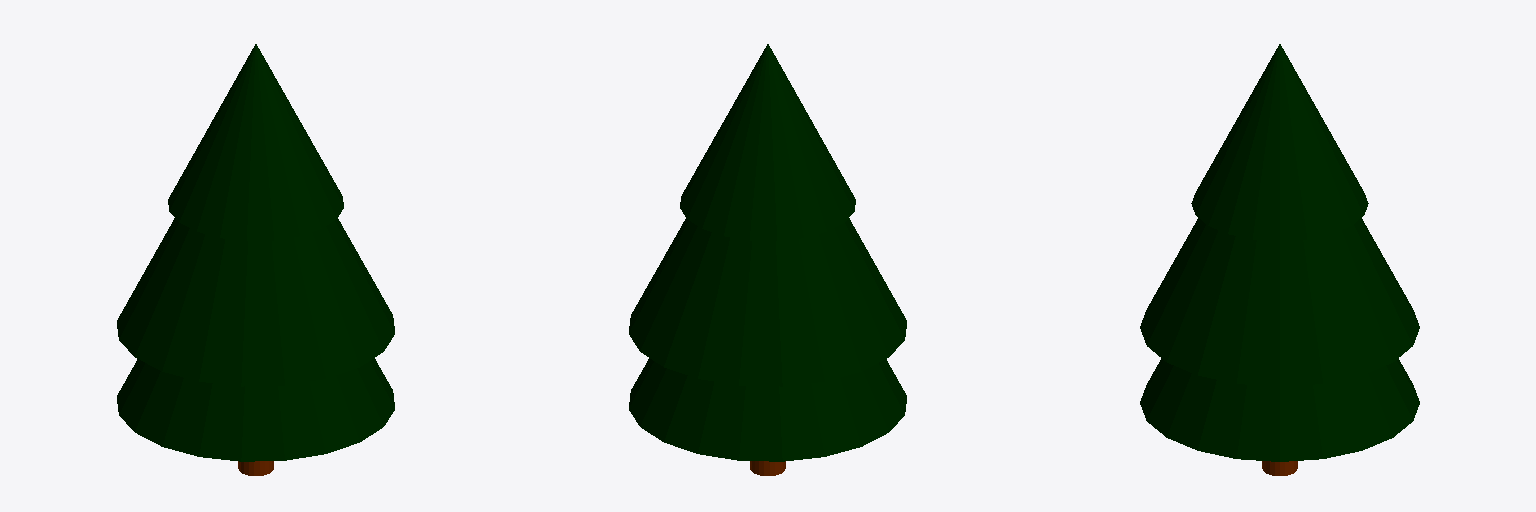
Rendered from Tree3.obj.
The picture shows the model from 3 angles: view 1: azimuth 30°, elevation 25°; view 2: azimuth 150°, elevation 25°; view 3: azimuth 270°, elevation 25°; orthographic projection.
Parts seen in each view (by area): view 1: pasted__pCone1; view 2: pasted__pCone1; view 3: pasted__pCone1.
Part boxes in pixels (x1,y1,x2,y2): pasted__pCone1: (117,44,394,475); pasted__pCone1: (629,44,906,475); pasted__pCone1: (1140,44,1419,475).
Size of the model in its own units: 8.12 by 13.6 by 8.12.